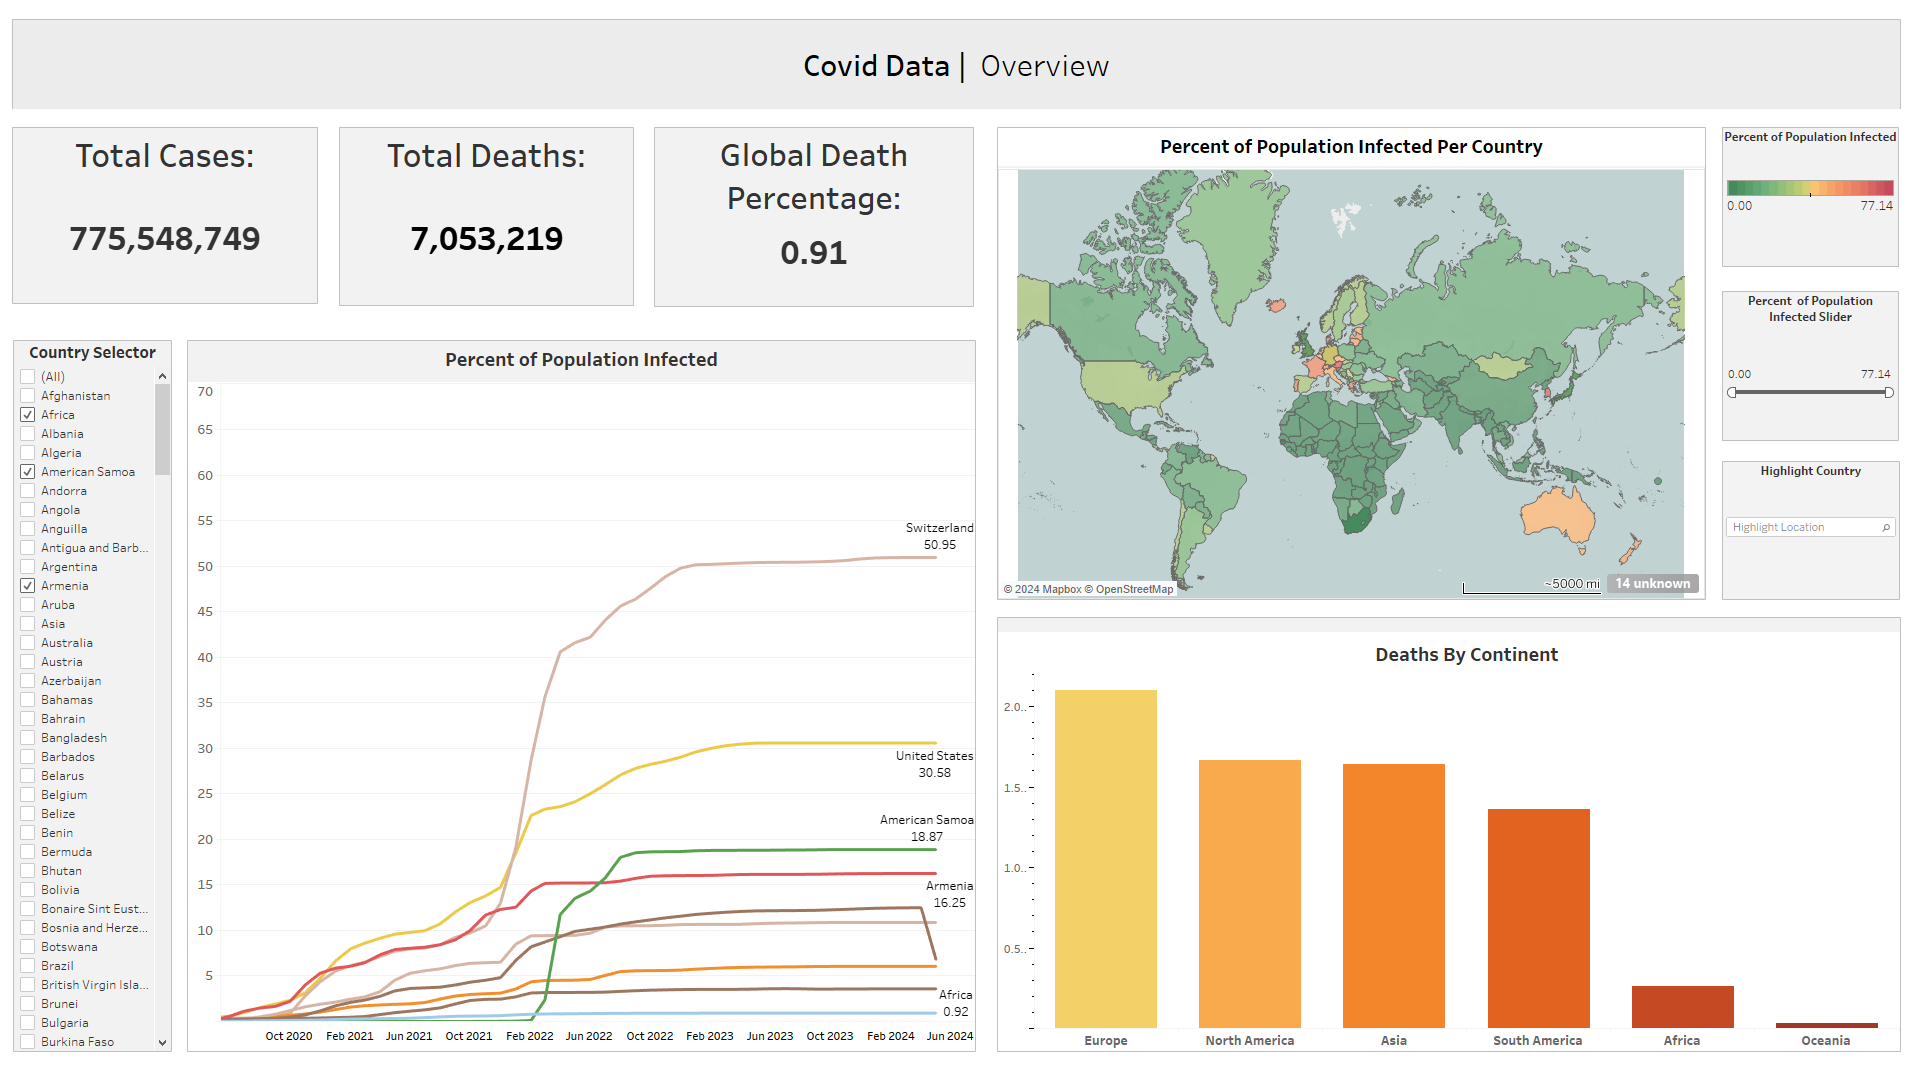

The page's visual inventory and layout, read from the dashboard file:
{"tool":"tableau","page":{"name":"Dashboard 1","canvas":[1000,1000],"units":"permille","ordinal":0},"visuals":[{"type":"text","box":[8.1,22.2,983.9,83.9]},{"type":"worksheet","title":"Sheet 5","mark":"Automatic","box":[8.4,121.8,162.9,118.7]},{"type":"worksheet","title":"Sheet 1","mark":"Automatic","box":[176.8,121.8,135.7,118.7]},{"type":"legend","title":"Sheet 3","param":"[federated.1v0venz0lax2jb14ocoi60qk9zp6].[sum:PercentofPopulationInfected:qk]","box":[900,121.8,90.7,129.8]},{"type":"worksheet","title":"Sheet 6","mark":"Automatic","box":[318.4,122.6,135.3,118.7]},{"type":"worksheet","title":"Sheet 3","mark":"Automatic","box":[460.5,122.6,433.6,437.5]},{"type":"worksheet","title":"Sheet 4","mark":"Automatic","rows":["PercentofPopulationInfected"],"cols":["Date"],"box":[67.8,253.2,386.5,725.5]},{"type":"filter","title":"Sheet 4","param":"[federated.1bq3a581mszvew195ph1k0ynwtlv].[none:Location:nk]","box":[8.4,254,52,724.7]},{"type":"filter","title":"Sheet 3","param":"[federated.1v0venz0lax2jb14ocoi60qk9zp6].[sum:PercentofPopulationInfected:qk]","box":[900.6,273.7,90.1,139.2]},{"type":"highlighter","title":"Sheet 3","param":"[federated.1v0venz0lax2jb14ocoi60qk9zp6].[none:Location:nk]","box":[900.6,431.2,90.7,129]},{"type":"worksheet","title":"Sheet 2","mark":"Automatic","rows":["TotalDeathCount"],"cols":["location"],"box":[460.8,576,530.8,402.7]}]}

Visuals, with their boxes on the dashboard's canvas, which has no fixed pixel size, in thousandths of its width and height (x1, y1, x2, y2). These are canvas units, not pixel positions in the 1914x1071 screenshot, which may show the page scaled, cropped or inside an application window:
text: region(8, 22, 992, 106)
"Sheet 5" worksheet: region(8, 122, 171, 240)
"Sheet 1" worksheet: region(177, 122, 312, 240)
"Sheet 3" legend: region(900, 122, 991, 252)
"Sheet 6" worksheet: region(318, 123, 454, 241)
"Sheet 3" worksheet: region(460, 123, 894, 560)
"Sheet 4" worksheet: region(68, 253, 454, 979)
"Sheet 4" filter: region(8, 254, 60, 979)
"Sheet 3" filter: region(901, 274, 991, 413)
"Sheet 3" highlighter: region(901, 431, 991, 560)
"Sheet 2" worksheet: region(461, 576, 992, 979)
